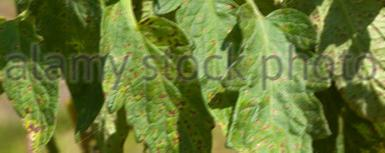Tomato Septoria leaf spot: (92, 0, 220, 153), (228, 0, 337, 153), (277, 0, 385, 122), (165, 0, 243, 111), (0, 10, 59, 153)
